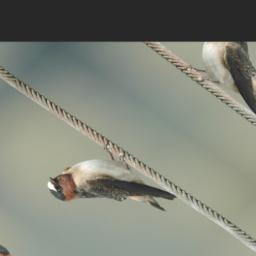Swallow: (34, 131, 185, 252)
